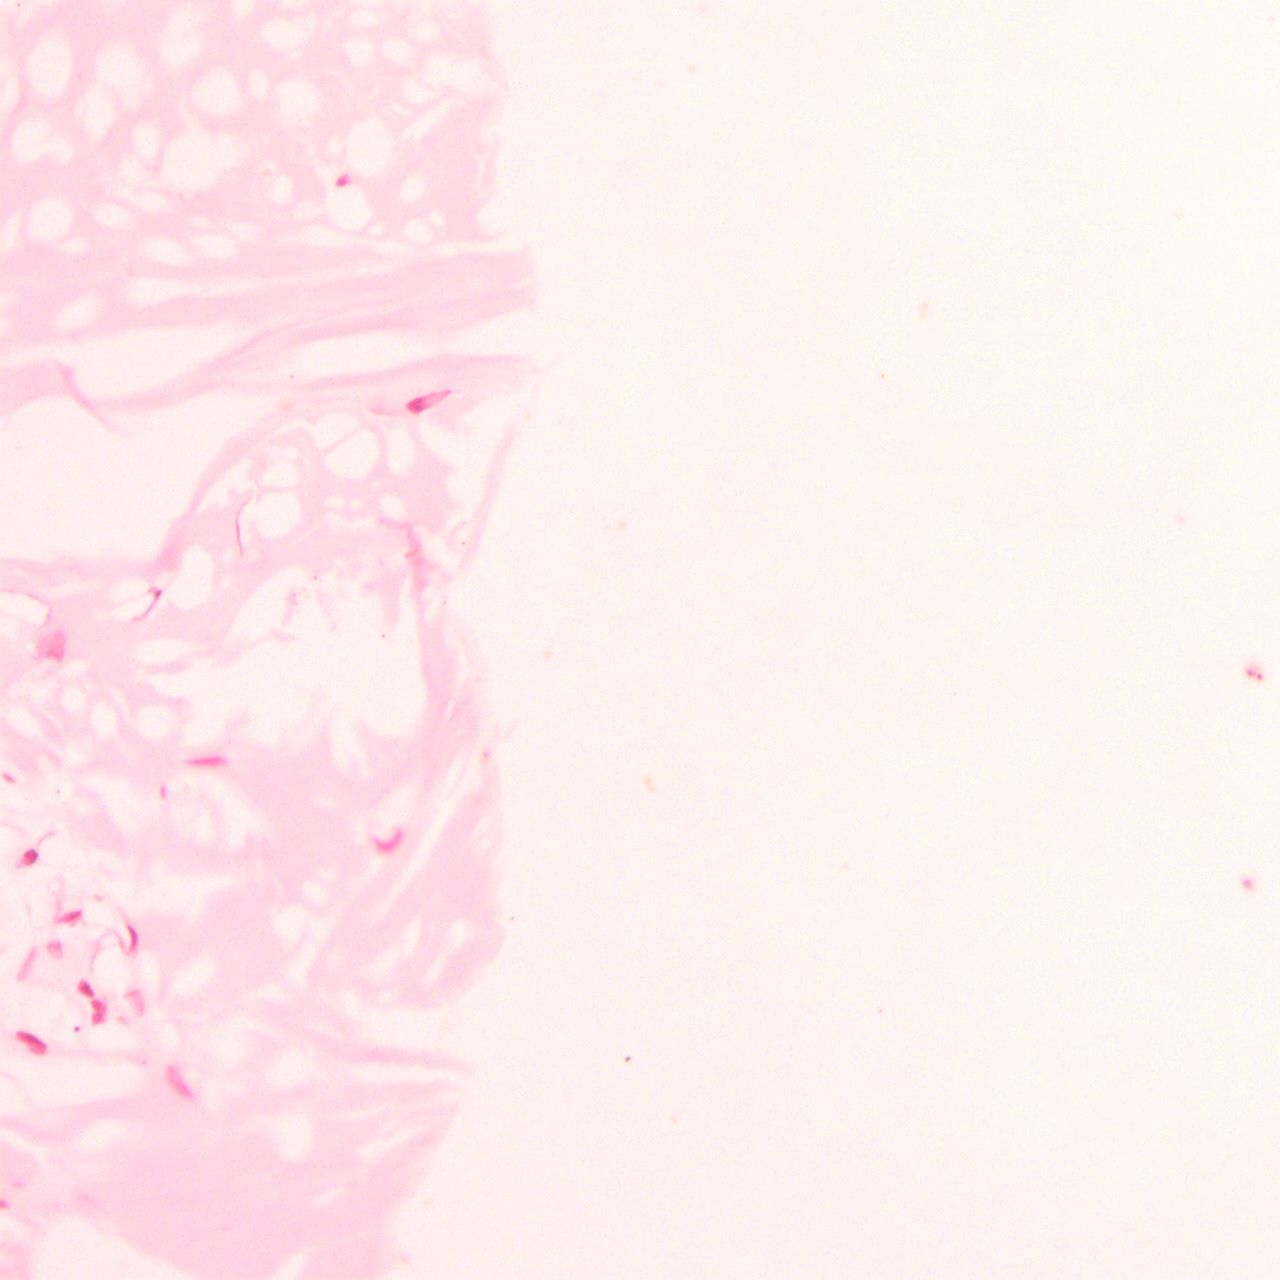nucleus-AC: (156, 1061, 199, 1107), (403, 384, 454, 417), (11, 1024, 52, 1064), (366, 825, 408, 858), (132, 586, 165, 625), (54, 904, 87, 928), (18, 846, 41, 869), (125, 925, 139, 956), (89, 999, 105, 1024), (184, 756, 229, 765), (77, 976, 93, 998), (334, 172, 354, 188), (72, 1024, 82, 1034)
